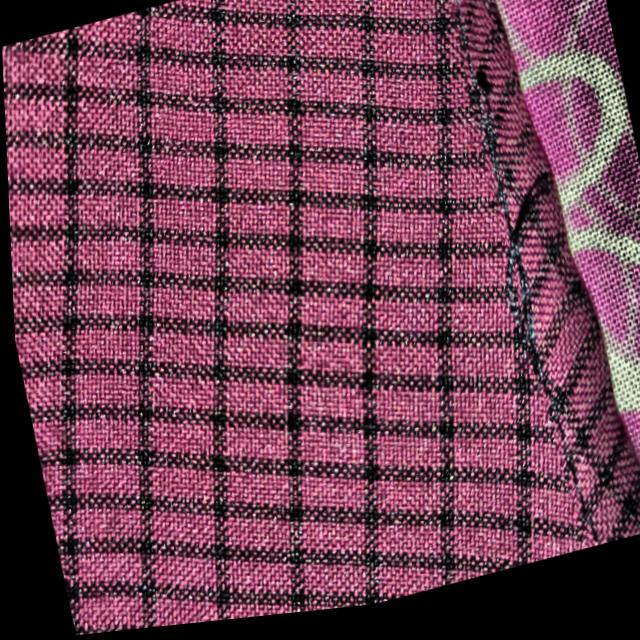Stitch: (426, 110, 598, 439)
